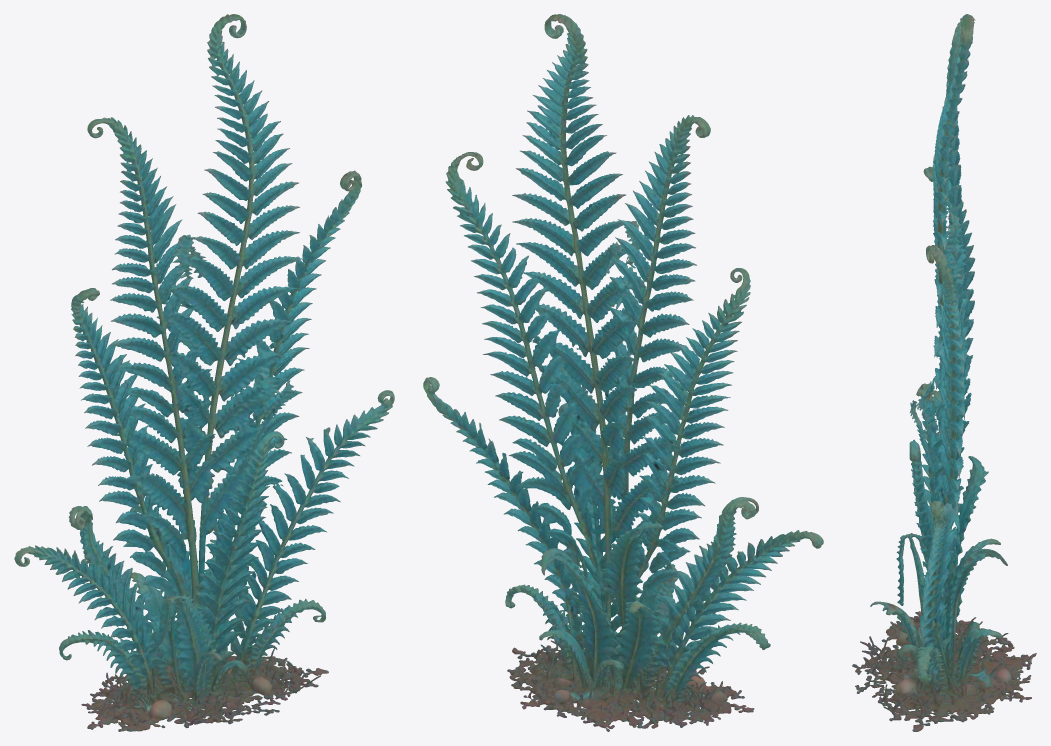
Rendered from Meshy_AI_fern_b_0823021023_image-to-3d-texture.glb.
3 views of the same model, side by side, from view 1: azimuth 30°, elevation 25°; view 2: azimuth 150°, elevation 25°; view 3: azimuth 270°, elevation 25° (orthographic). The views are drawn at different scales.
Size of the model in its own units: 1.16 by 1.9 by 0.4673.
1 material, 1 textured.
